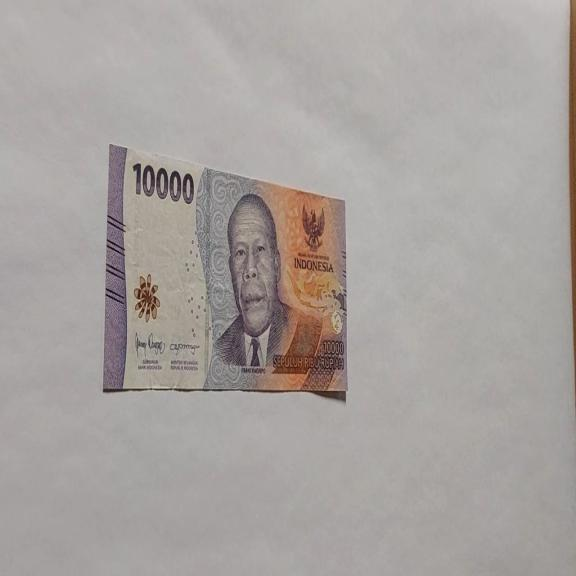Kertas: (103, 142, 348, 398), (131, 160, 195, 206)
